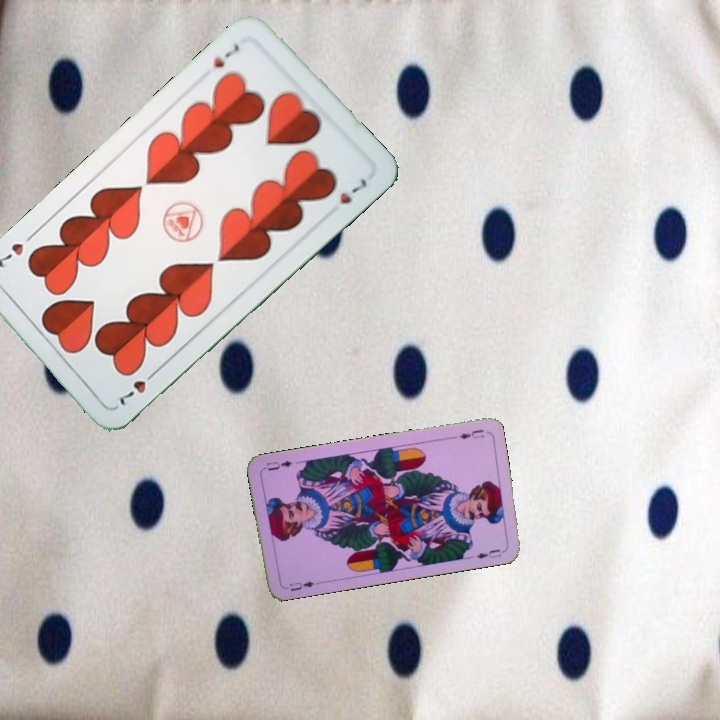EU: (285, 577, 317, 594), (455, 425, 487, 442)
H7: (115, 365, 161, 408), (208, 39, 242, 71)
